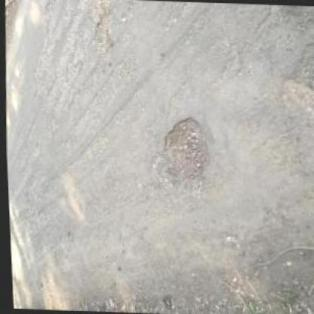Hueco: (157, 113, 209, 190), (92, 11, 113, 44)
